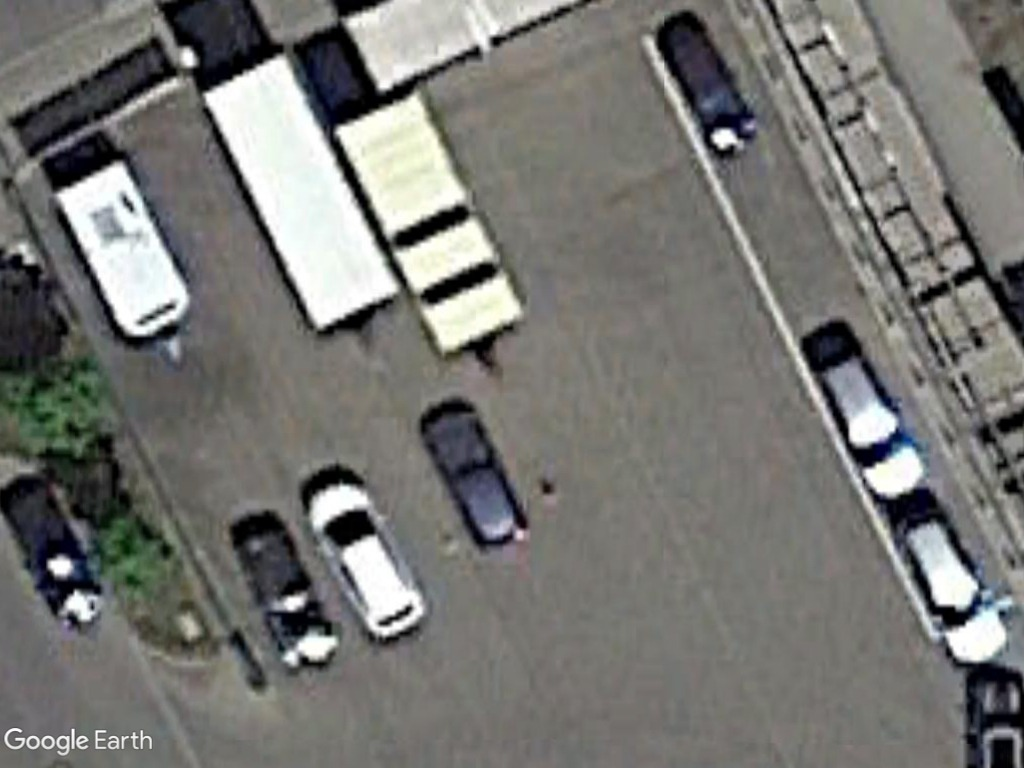car: (307, 472, 429, 642), (887, 504, 1010, 667), (814, 342, 927, 507)
